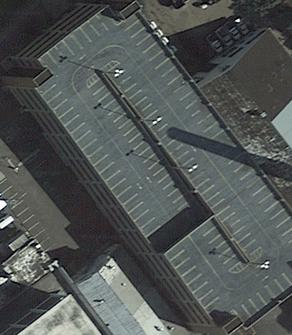parkingspot: (117, 13, 292, 251), (106, 61, 263, 258), (36, 77, 163, 239), (86, 76, 195, 212), (38, 6, 118, 74), (0, 178, 58, 253), (164, 241, 221, 310), (233, 272, 292, 329), (196, 217, 244, 273), (204, 14, 252, 56)
